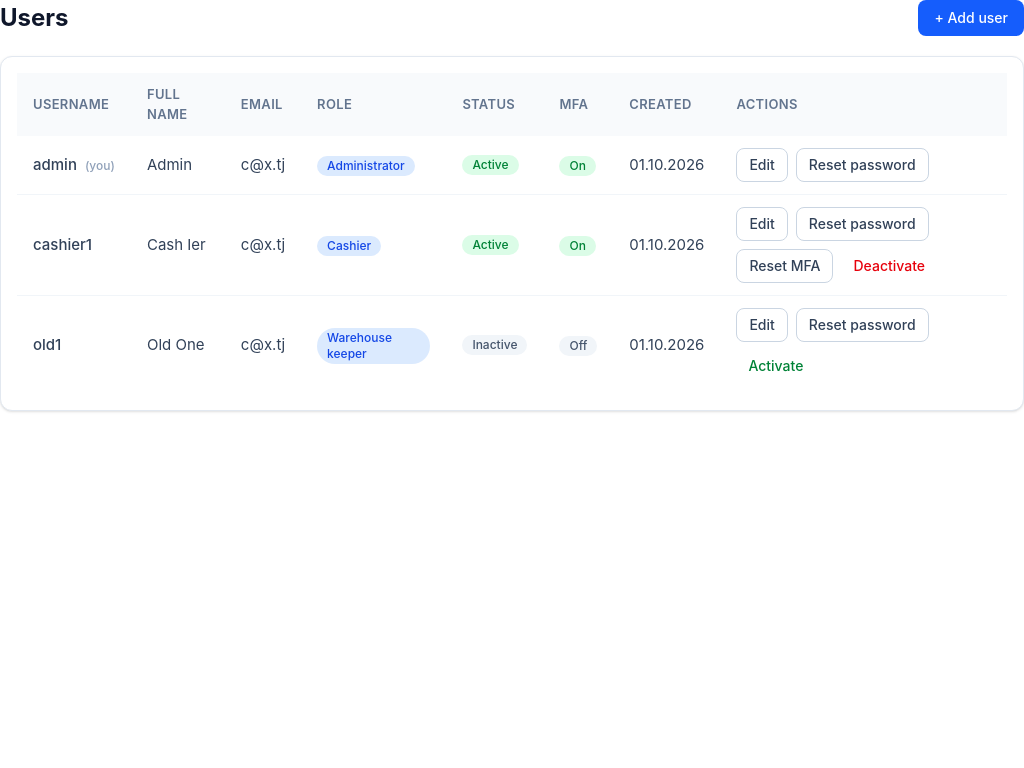
Scenario: UsersPage › create: maps a server error code to a translated message and keeps the dialog open
Expected: the text "cashier1" is shown, [17, 194, 131, 296]
Click the button "+ Add user". click: click(971, 18)
box: [918, 0, 1023, 36]
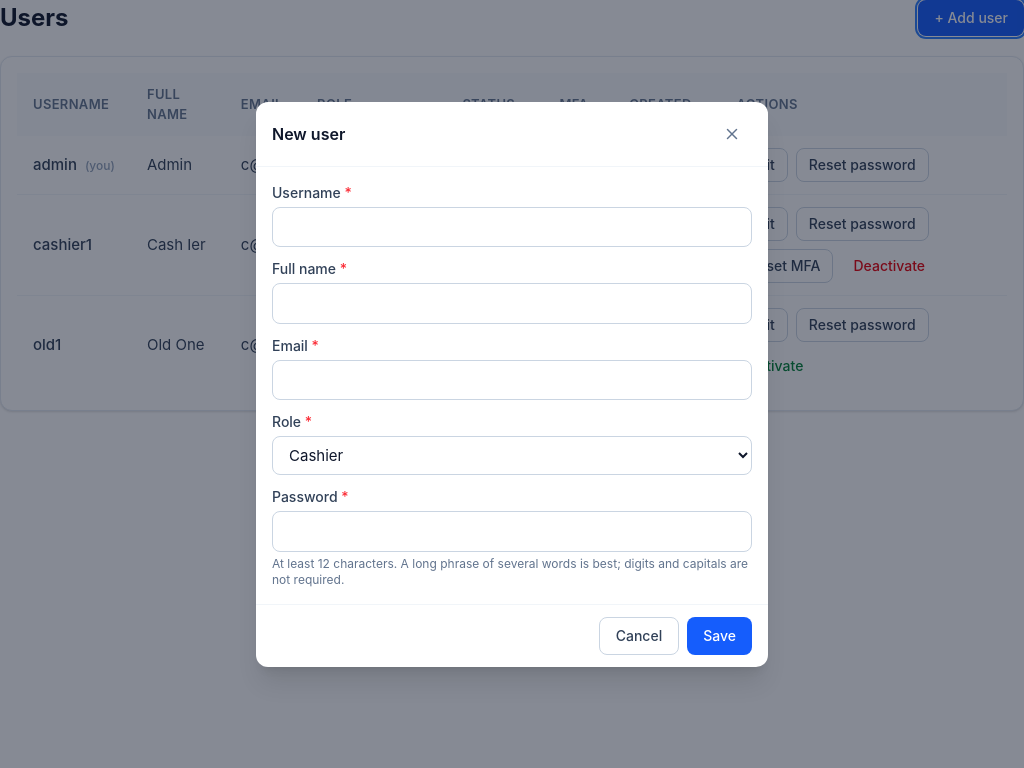
Type "cashier1" into the field labelled "Username *". click: (512, 227)
box: [272, 206, 752, 247]
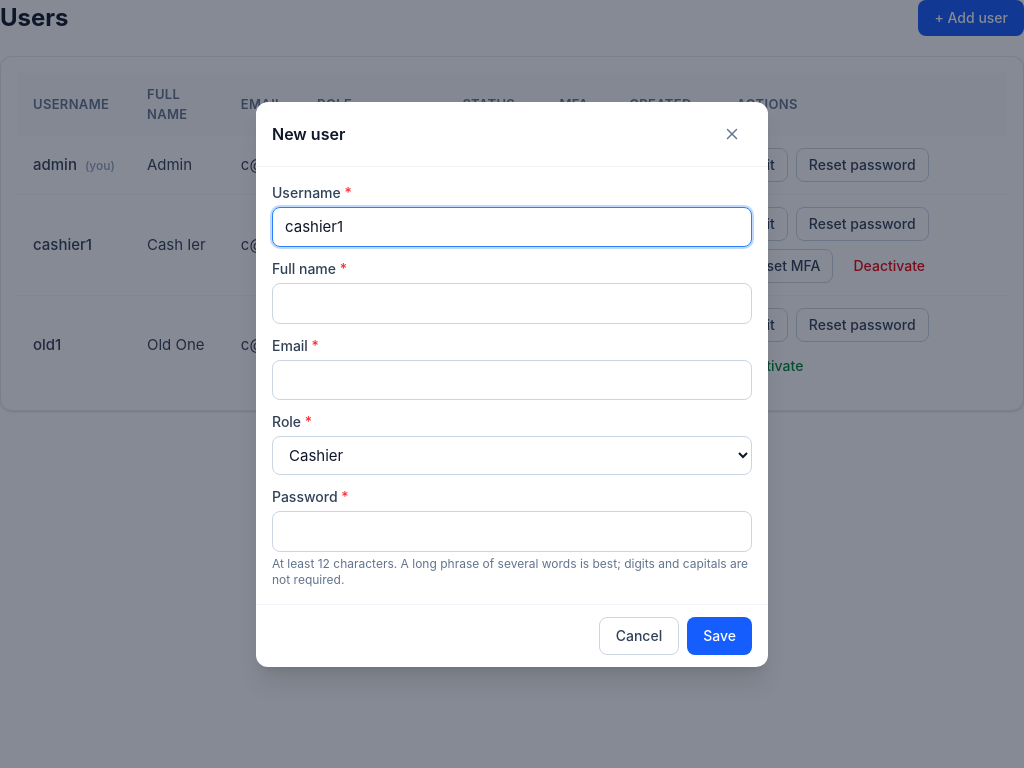
Type "Dup" into the field labelled "Full name *". click: (512, 303)
box: [272, 283, 752, 324]
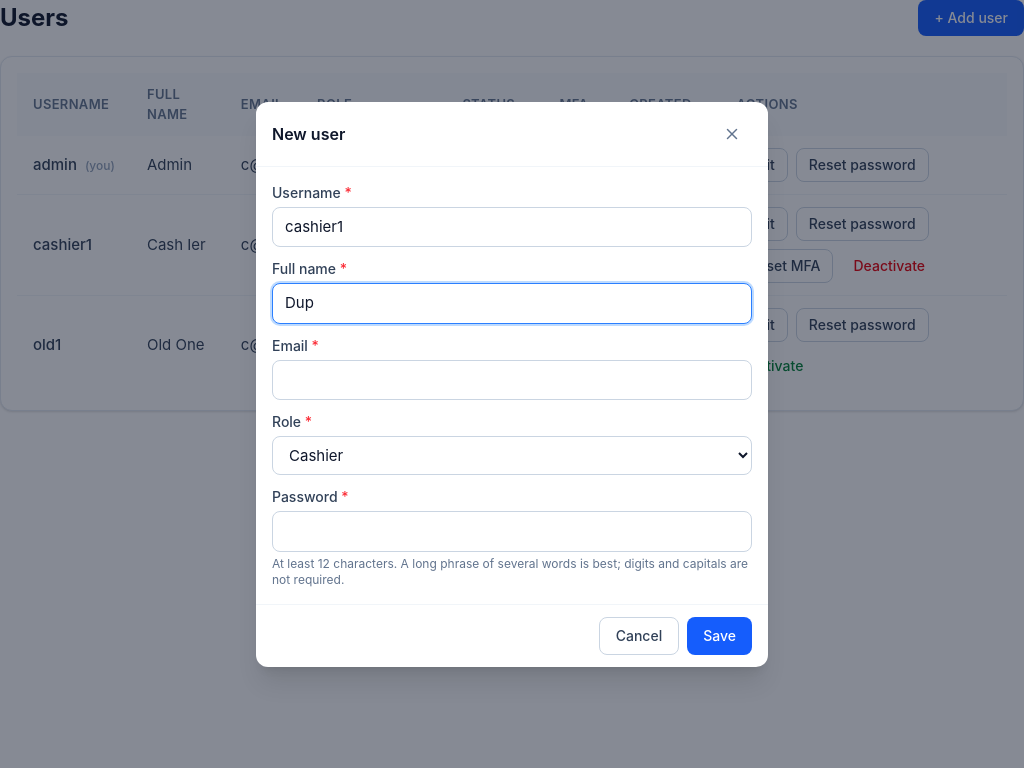
Type "d@x.tj" into the field labelled "Email *". click: (512, 380)
box: [272, 360, 752, 400]
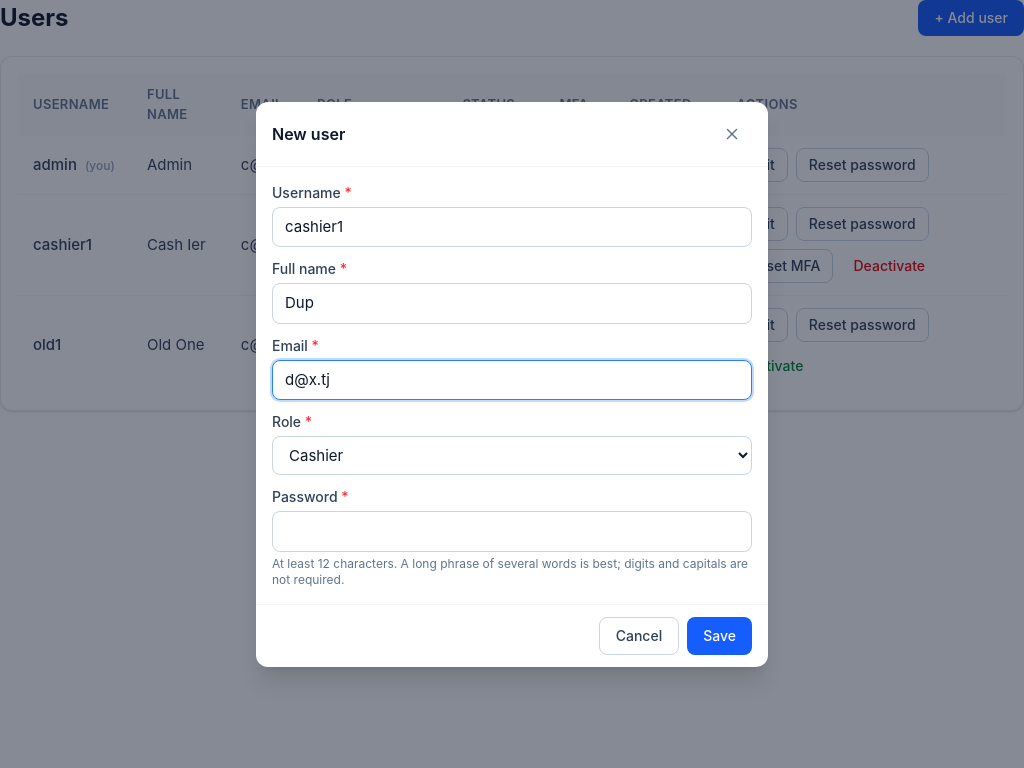
Type "Strong-Pass1" into the password field. click: (512, 531)
box: [272, 511, 752, 552]
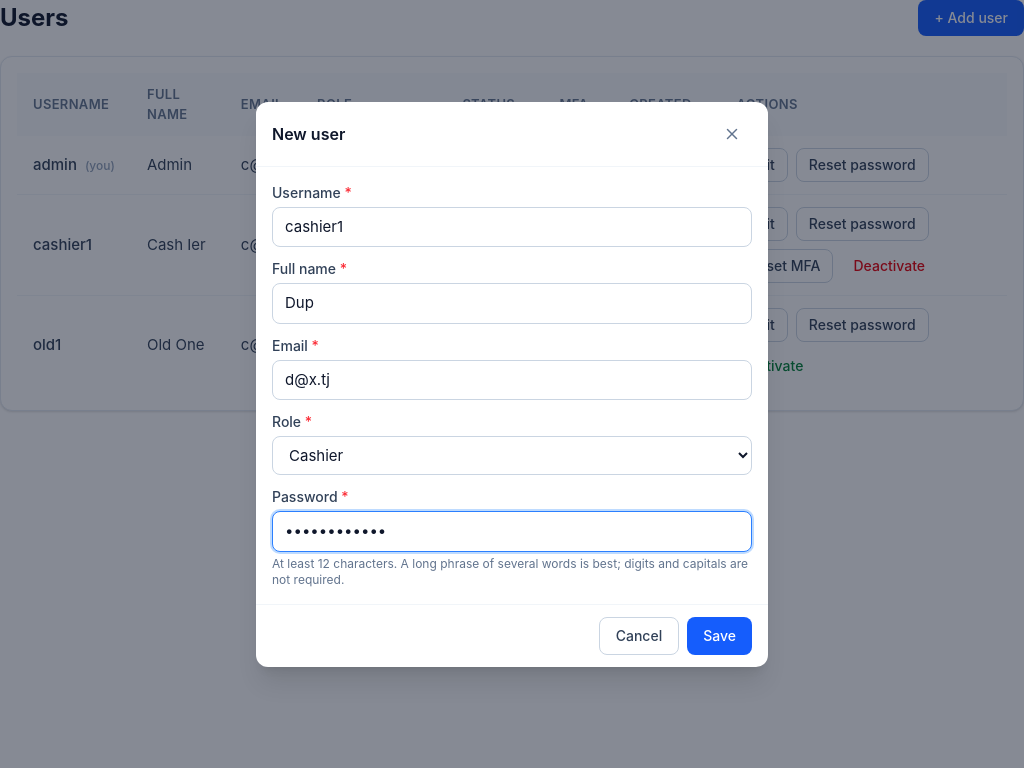
Click the button "Save". click: click(720, 636)
box: [687, 616, 752, 654]
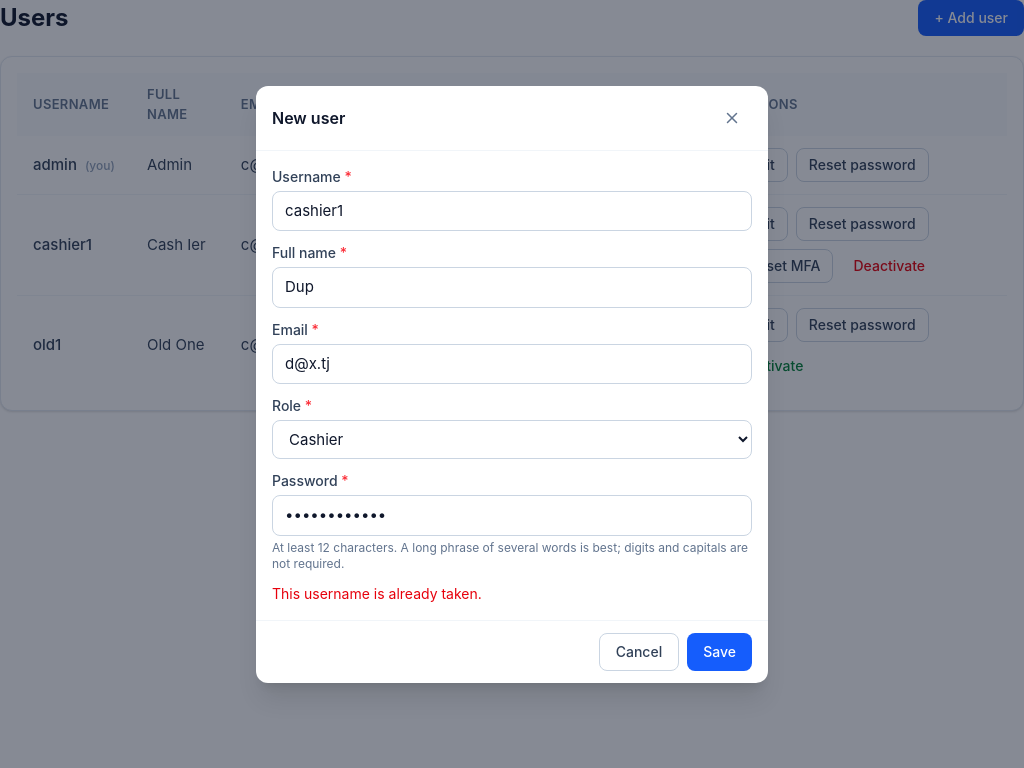
Now the message reads "This username is already taken.", box [272, 584, 482, 602]
